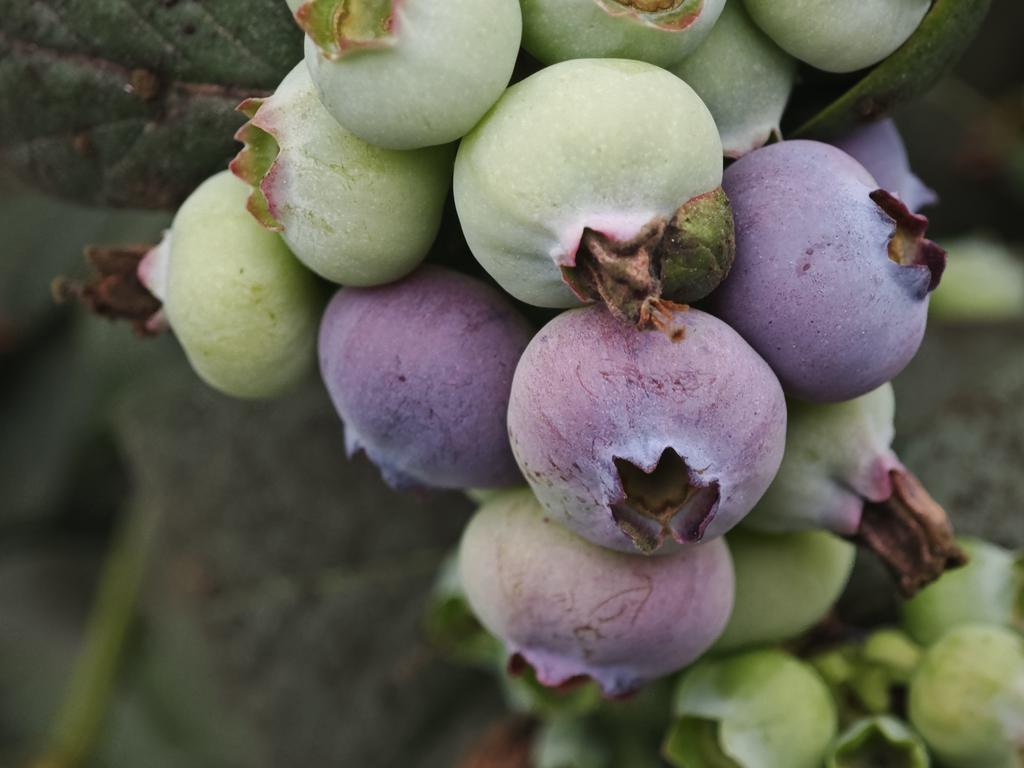Semi-RipeBlueBerry: (507, 299, 792, 562), (722, 133, 946, 406), (315, 263, 521, 497)
UnripeBlueBerry: (452, 52, 727, 312)
